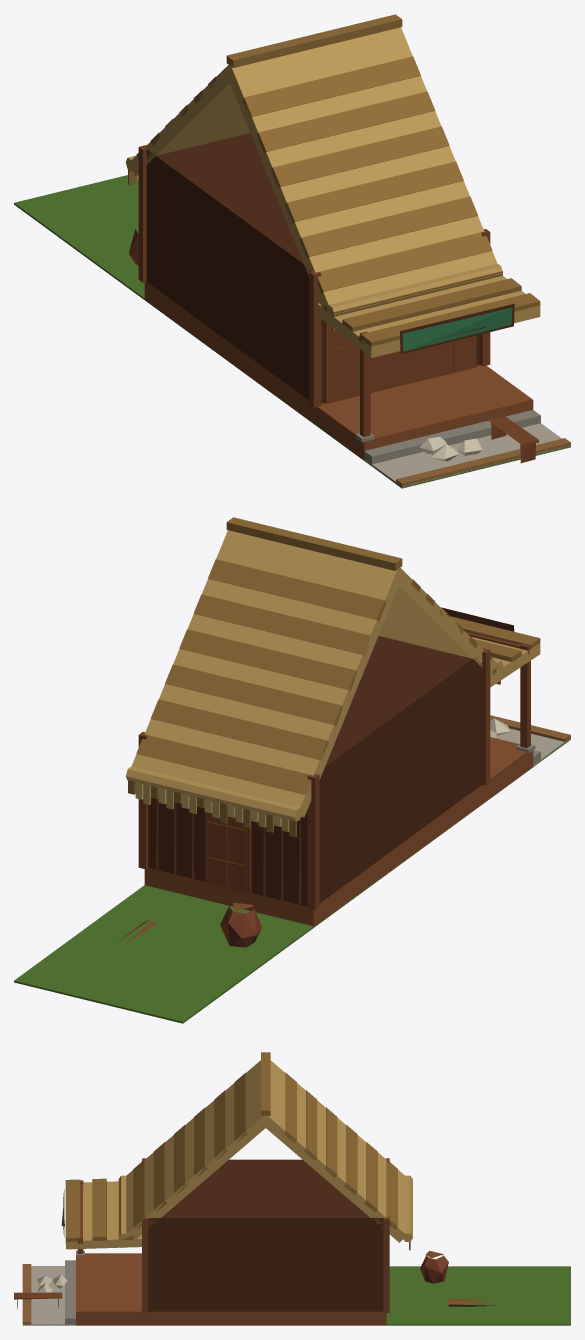
Rendered from bay1_mid2.glb.
3 views of the same model, one above another, from view 1: azimuth 30°, elevation 25°; view 2: azimuth 150°, elevation 25°; view 3: azimuth 270°, elevation 25° (orthographic). The views are drawn at different scales.
Visible parts, largest first — view 1: body; view 2: body; view 3: body.
Part boxes in pixels (bbox=[...]): body: bbox=[14, 14, 570, 488]; body: bbox=[14, 517, 570, 1023]; body: bbox=[14, 1052, 570, 1325].
Bounding box in the file's own units: 4.18 × 6.89 × 16.15.
